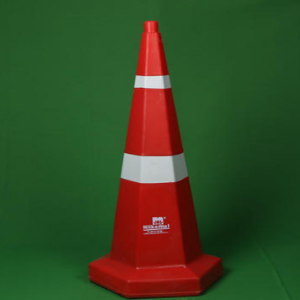traffic cone: (89, 20, 222, 299)
